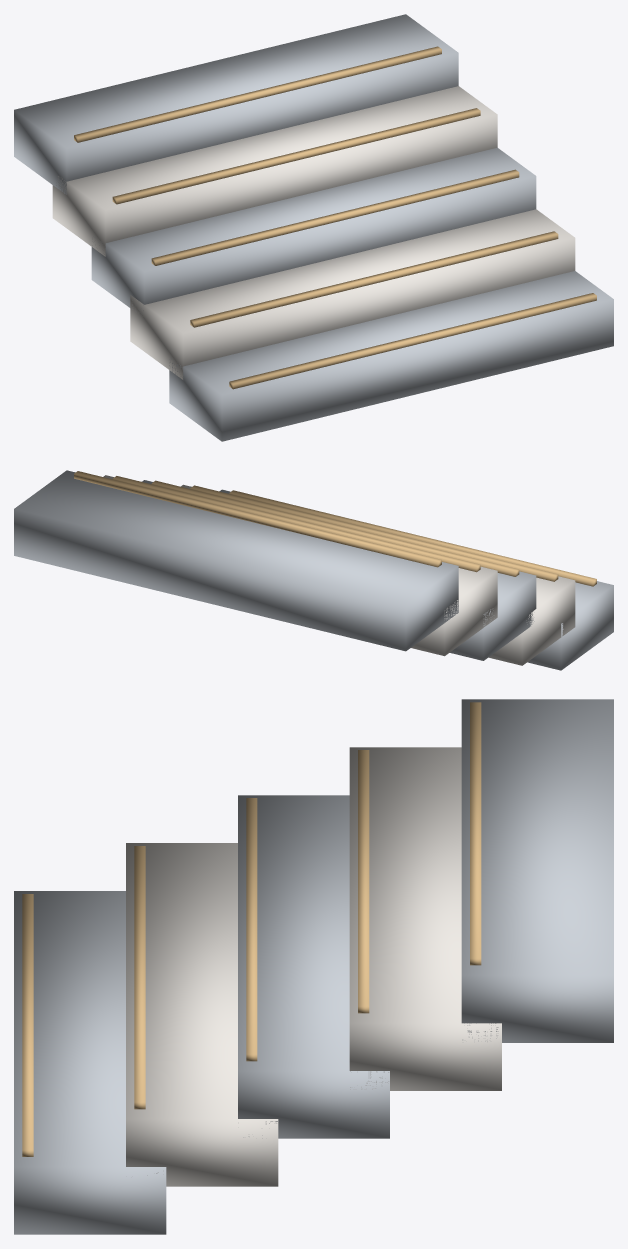
File: arc_pearl_stairs.glb
3 views of the same model, one above another, from view 1: azimuth 30°, elevation 25°; view 2: azimuth 150°, elevation 25°; view 3: azimuth 270°, elevation 25° (orthographic). The views are drawn at different scales.
Parts seen in each view (by area): view 1: ARC_pearl_stairs_step_4, ARC_pearl_stairs_step_0, ARC_pearl_stairs_step_1, ARC_pearl_stairs_step_3, ARC_pearl_stairs_step_2, ARC_pearl_stairs_edge_3, ARC_pearl_stairs_edge_1, ARC_pearl_stairs_edge_2, ARC_pearl_stairs_edge_4, ARC_pearl_stairs_edge_0; view 2: ARC_pearl_stairs_step_4, ARC_pearl_stairs_step_1, ARC_pearl_stairs_step_3, ARC_pearl_stairs_step_0, ARC_pearl_stairs_step_2, ARC_pearl_stairs_edge_4, ARC_pearl_stairs_edge_2, ARC_pearl_stairs_edge_1, ARC_pearl_stairs_edge_0, ARC_pearl_stairs_edge_3; view 3: ARC_pearl_stairs_step_4, ARC_pearl_stairs_step_0, ARC_pearl_stairs_step_3, ARC_pearl_stairs_step_1, ARC_pearl_stairs_step_2, ARC_pearl_stairs_edge_1, ARC_pearl_stairs_edge_2, ARC_pearl_stairs_edge_3, ARC_pearl_stairs_edge_4, ARC_pearl_stairs_edge_0.
Part boxes in pixels (left/top/right/bottom): ARC_pearl_stairs_step_4: left=14, top=14, right=458, bottom=194; ARC_pearl_stairs_step_0: left=169, top=271, right=613, bottom=441; ARC_pearl_stairs_step_1: left=130, top=209, right=575, bottom=379; ARC_pearl_stairs_step_3: left=52, top=86, right=497, bottom=256; ARC_pearl_stairs_step_2: left=91, top=147, right=536, bottom=310; ARC_pearl_stairs_edge_3: left=112, top=108, right=480, bottom=204; ARC_pearl_stairs_edge_1: left=190, top=231, right=558, bottom=327; ARC_pearl_stairs_edge_2: left=151, top=169, right=519, bottom=265; ARC_pearl_stairs_edge_4: left=74, top=46, right=441, bottom=142; ARC_pearl_stairs_edge_0: left=229, top=293, right=596, bottom=389; ARC_pearl_stairs_step_4: left=14, top=470, right=458, bottom=651; ARC_pearl_stairs_step_1: left=181, top=484, right=575, bottom=665; ARC_pearl_stairs_step_3: left=103, top=475, right=497, bottom=656; ARC_pearl_stairs_step_0: left=219, top=489, right=613, bottom=670; ARC_pearl_stairs_step_2: left=142, top=480, right=536, bottom=660; ARC_pearl_stairs_edge_4: left=74, top=471, right=441, bottom=567; ARC_pearl_stairs_edge_2: left=151, top=480, right=519, bottom=576; ARC_pearl_stairs_edge_1: left=190, top=485, right=558, bottom=581; ARC_pearl_stairs_edge_0: left=229, top=490, right=596, bottom=586; ARC_pearl_stairs_edge_3: left=113, top=476, right=480, bottom=572; ARC_pearl_stairs_step_4: left=461, top=699, right=613, bottom=1042; ARC_pearl_stairs_step_0: left=14, top=891, right=166, bottom=1234; ARC_pearl_stairs_step_3: left=349, top=747, right=501, bottom=1090; ARC_pearl_stairs_step_1: left=126, top=843, right=278, bottom=1186; ARC_pearl_stairs_step_2: left=238, top=795, right=389, bottom=1138; ARC_pearl_stairs_edge_1: left=134, top=846, right=145, bottom=1109; ARC_pearl_stairs_edge_2: left=246, top=798, right=257, bottom=1061; ARC_pearl_stairs_edge_3: left=358, top=750, right=369, bottom=1013; ARC_pearl_stairs_edge_4: left=470, top=702, right=481, bottom=965; ARC_pearl_stairs_edge_0: left=22, top=894, right=33, bottom=1156.
Size of the model in its own units: 2.1 by 0.945 by 1.93.
